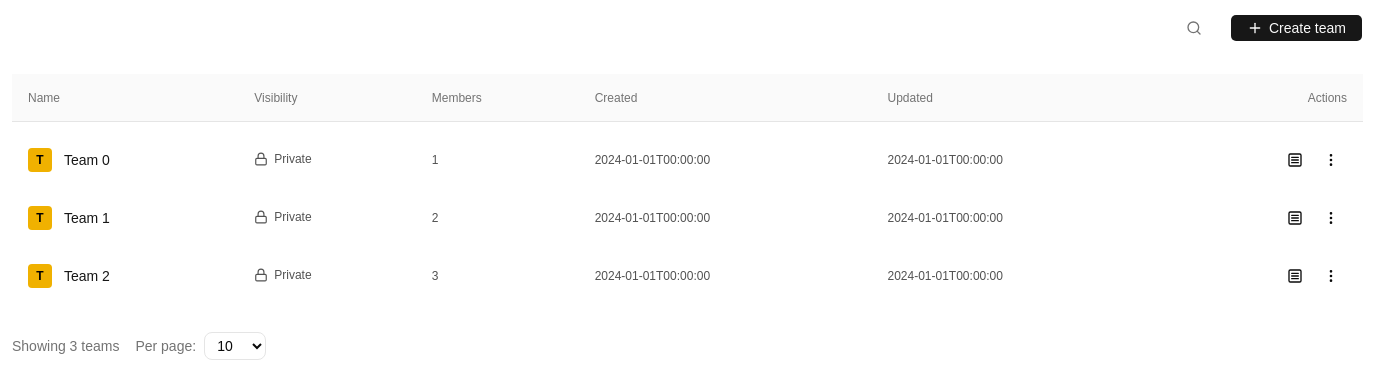
Test case: Teams › filters the loaded teams with the search box
Expected: the text "Team 0" is shown, [64,150,110,170]
Expected: the text "Team 1" is shown, [64,208,110,228]
Type "Team 0" into the search field named "Search Teams". click: x=1270, y=28
box: [1178,12,1363,44]
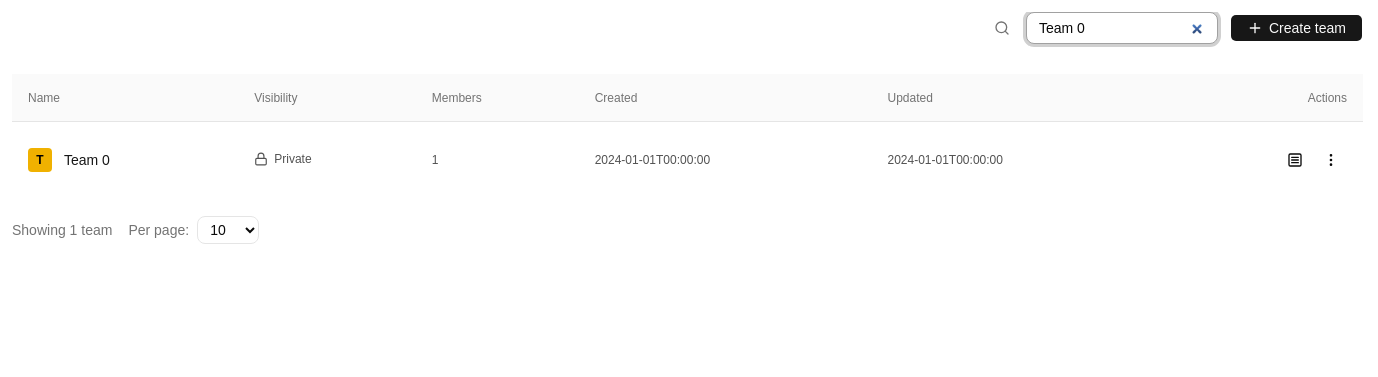
Expected: the text "Team 0" is shown, [64,150,110,170]
Result: the text "Team 1" is gone
Replace the text in the search field named "Search Teams" with "zzz-none". click: x=1122, y=28
box: [1026,12,1218,44]
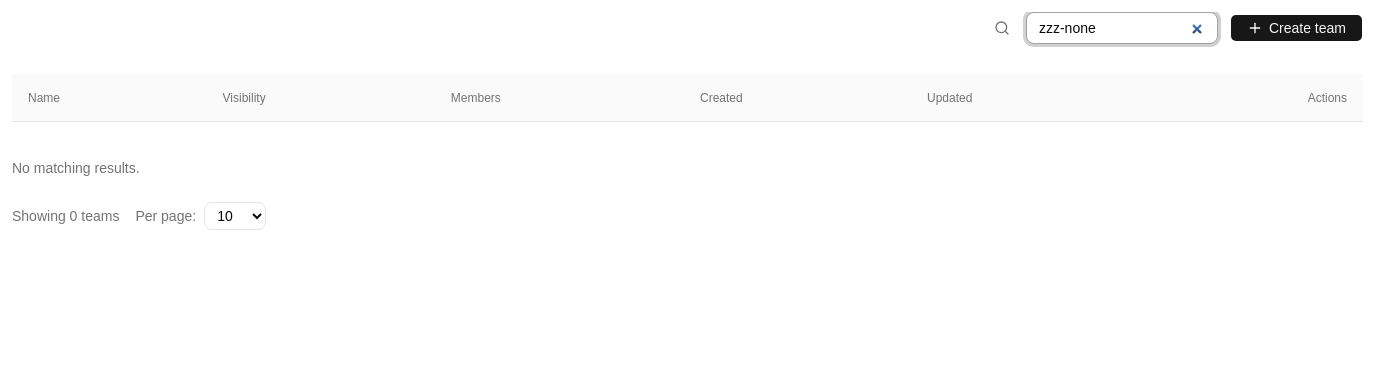
Result: the text "No matching results." is shown at [12,160,140,176]
